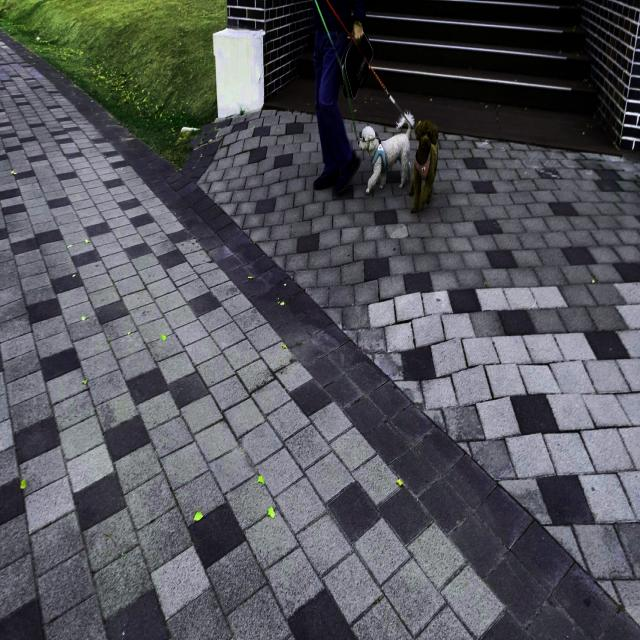Leashed_Dog: (336, 0, 438, 215), (336, 0, 416, 193)
